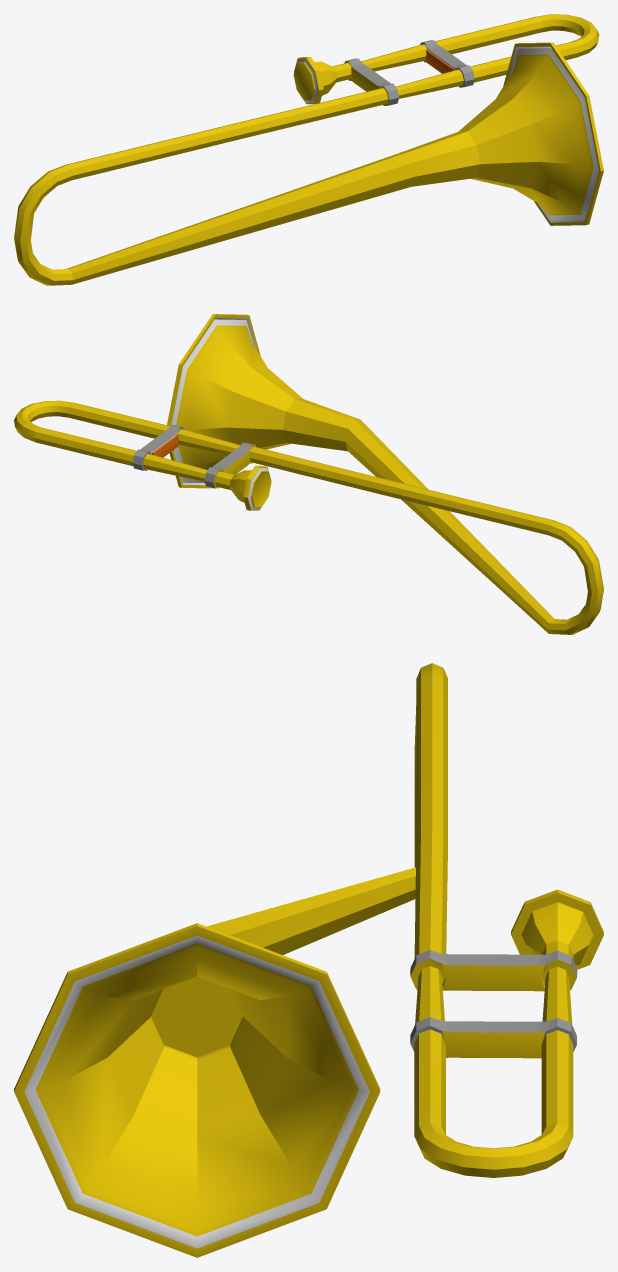
File: trombone.fbx
3 renders of one model, top to bottom at view 1: azimuth 30°, elevation 25°; view 2: azimuth 150°, elevation 25°; view 3: azimuth 270°, elevation 25°, orthographic. The views are drawn at different scales.
Parts seen in each view (by area): view 1: main, handle; view 2: main, handle; view 3: main, handle.
Part boxes in pixels (<box>): main: <box>14,42,603,285</box>; handle: <box>361,14,599,98</box>; main: <box>167,314,603,634</box>; handle: <box>14,400,240,481</box>; main: <box>14,663,603,1257</box>; handle: <box>410,966,576,1177</box>.
Size of the model in its own units: 23.38 by 6.99 by 11.02.
